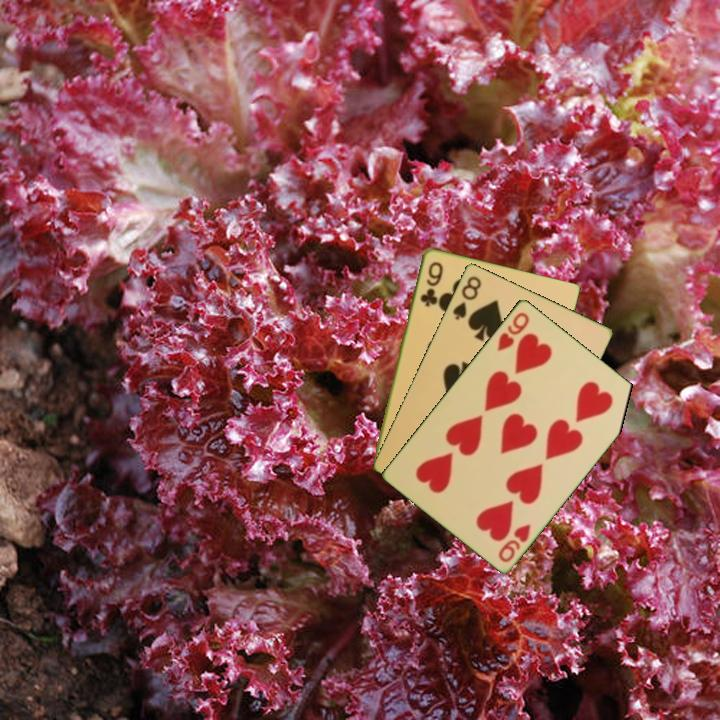8s: (449, 272, 484, 323)
9c: (416, 258, 446, 309)
9h: (494, 308, 532, 354), (495, 520, 533, 565)
